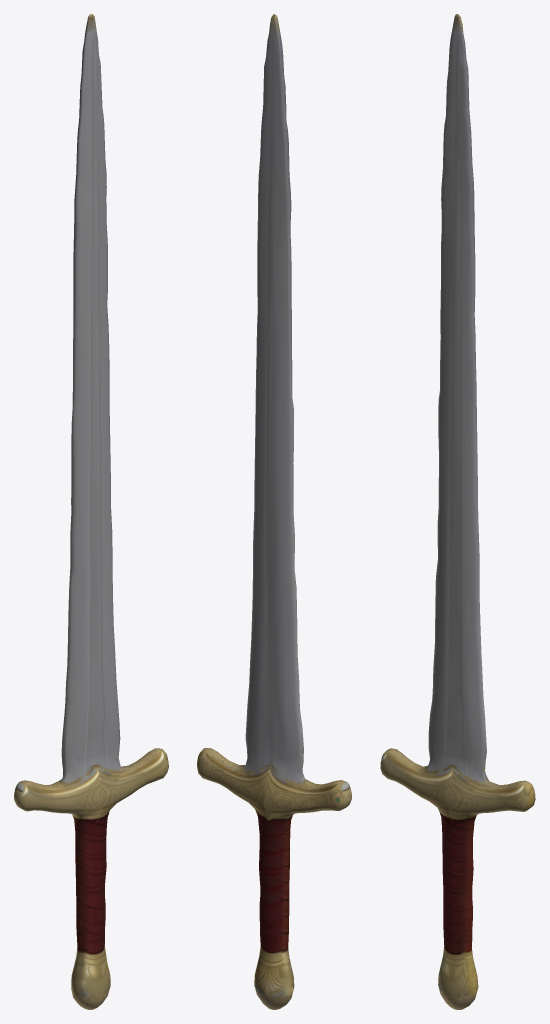
The model's file is Longsword.fbx.
3 renders of one model, left to right at view 1: azimuth 30°, elevation 25°; view 2: azimuth 150°, elevation 25°; view 3: azimuth 330°, elevation 25°, orthographic.
Parts seen in each view (by area): view 1: Longsword; view 2: Longsword; view 3: Longsword.
Boxes of the visible parts, bbox=[...] form: Longsword: bbox=[14, 14, 168, 1009]; Longsword: bbox=[197, 14, 351, 1009]; Longsword: bbox=[380, 14, 535, 1009].
Size of the model in its own units: 26.59 by 167 by 5.49.
1 material, 1 textured.
